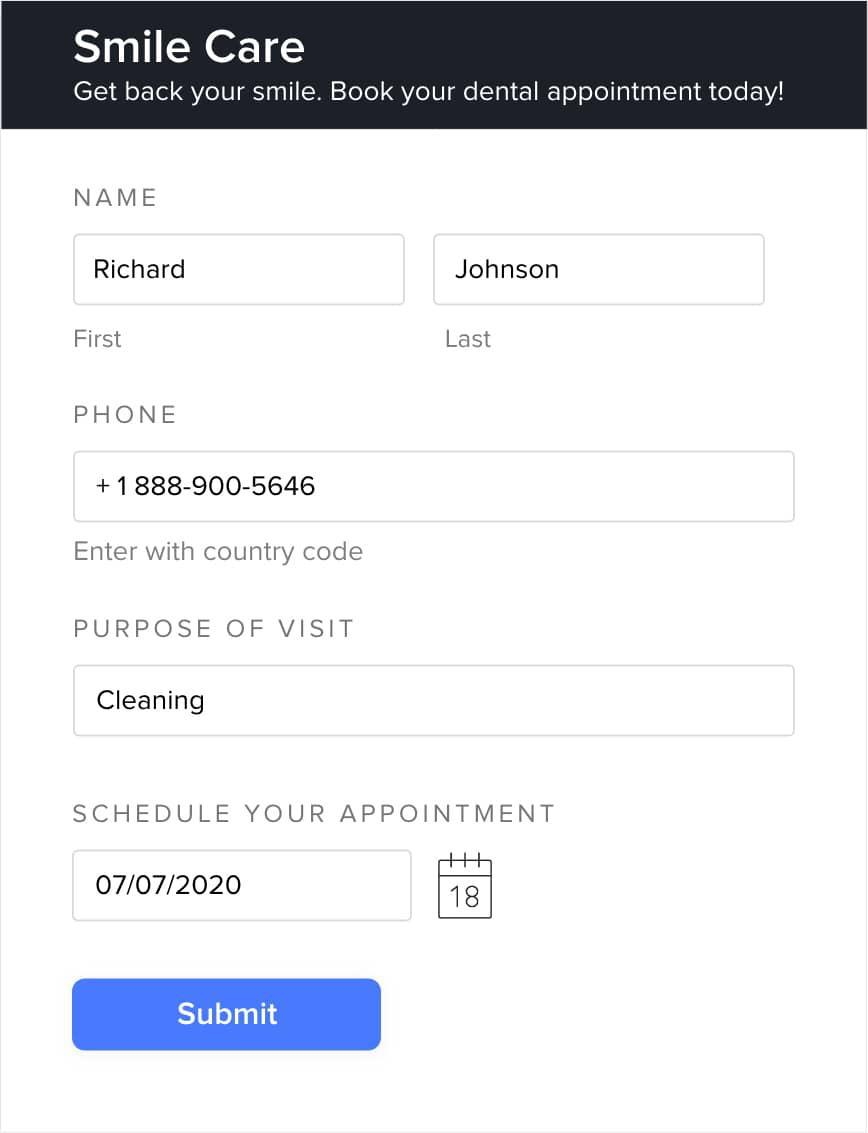button: (69, 975, 383, 1057)
icon: (431, 849, 502, 931)
input: (74, 666, 797, 740), (74, 450, 795, 522), (75, 850, 415, 924), (435, 234, 765, 307), (76, 236, 405, 305)
label: (66, 799, 563, 830), (69, 609, 366, 645), (76, 393, 185, 432), (54, 179, 181, 210), (57, 317, 131, 359), (440, 324, 499, 360)
